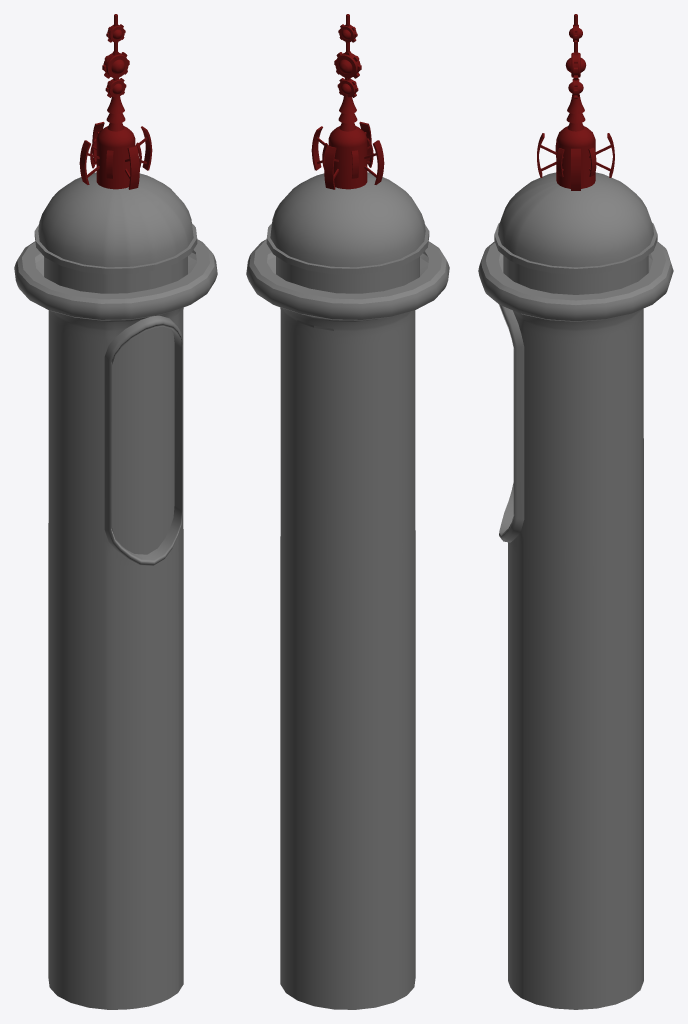
File: Dome Building with Spire.obj
3 views of the same model, side by side, from view 1: azimuth 30°, elevation 25°; view 2: azimuth 150°, elevation 25°; view 3: azimuth 270°, elevation 25° (orthographic).
Visible parts, largest first — view 1: Tube, Tube Dome, Door_Panel Tube, Base, Base Spire, Base Side_Piece_2, Base Side_Piece_1; view 2: Tube, Tube Dome, Base, Base Spire, Base Side_Piece_2, Base Side_Piece_1; view 3: Tube, Tube Dome, Base, Base Spire, Base Side_Piece_1.
Part boxes in pixels (<box>): Tube: <box>14,239,217,1009</box>; Tube Dome: <box>34,172,197,293</box>; Door_Panel Tube: <box>112,326,174,554</box>; Base: <box>96,126,135,189</box>; Base Spire: <box>102,14,129,131</box>; Base Side_Piece_2: <box>79,126,152,184</box>; Base Side_Piece_1: <box>92,122,139,189</box>; Tube: <box>246,239,449,1009</box>; Tube Dome: <box>266,172,429,293</box>; Base: <box>328,126,367,189</box>; Base Spire: <box>334,14,361,131</box>; Base Side_Piece_2: <box>311,126,384,184</box>; Base Side_Piece_1: <box>324,121,371,189</box>; Tube: <box>478,241,673,1009</box>; Tube Dome: <box>494,172,657,294</box>; Base: <box>556,126,595,188</box>; Base Spire: <box>565,14,586,131</box>; Base Side_Piece_1: <box>537,133,614,177</box>.
Bounding box in the file's own units: 2.83 × 14.67 × 2.69.
